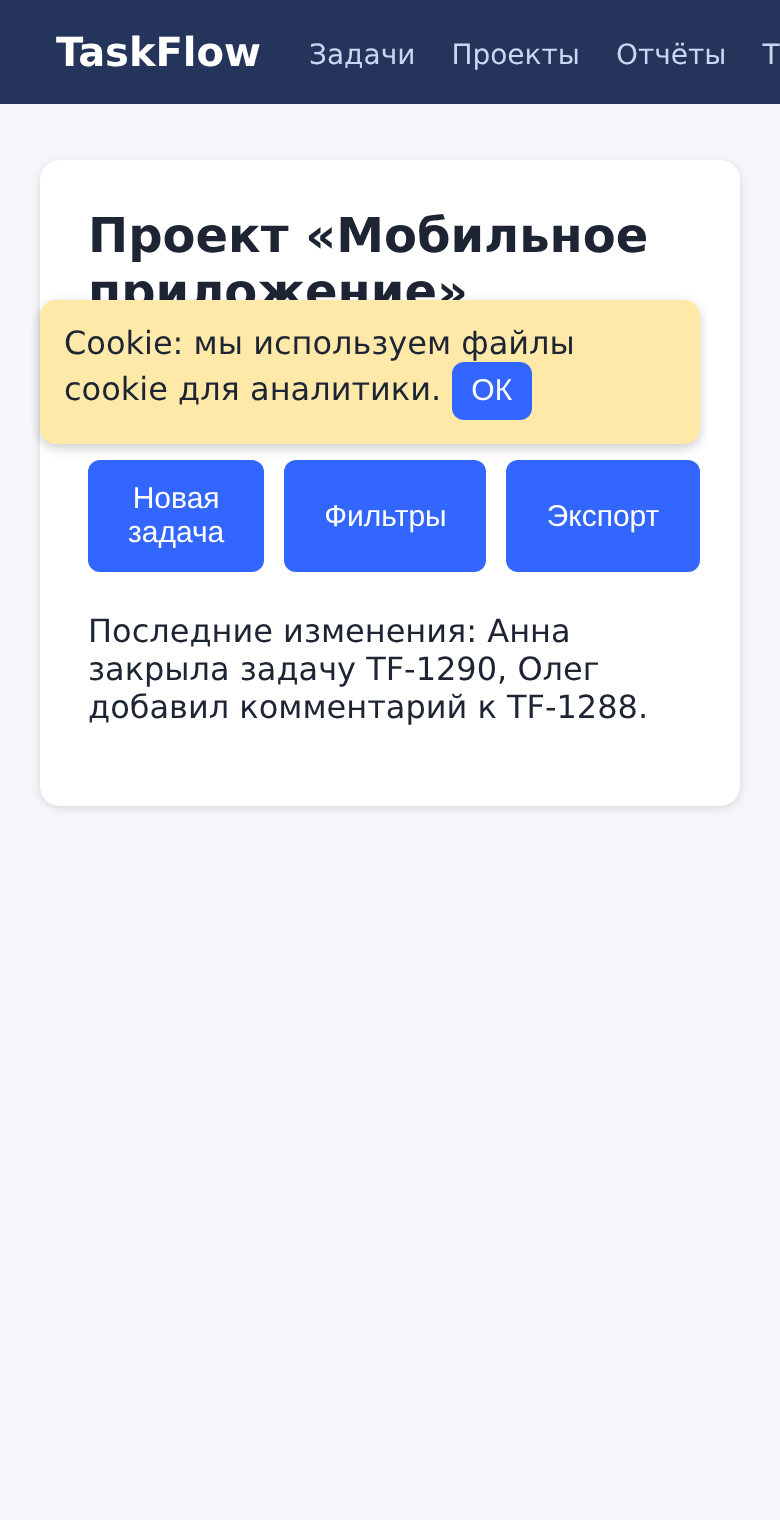DEFECT_AREA: (40, 300, 700, 444)
PII: (487, 618, 568, 643), (519, 656, 598, 681)
UI_ELEMENT: (88, 212, 648, 300), (452, 358, 532, 420)
